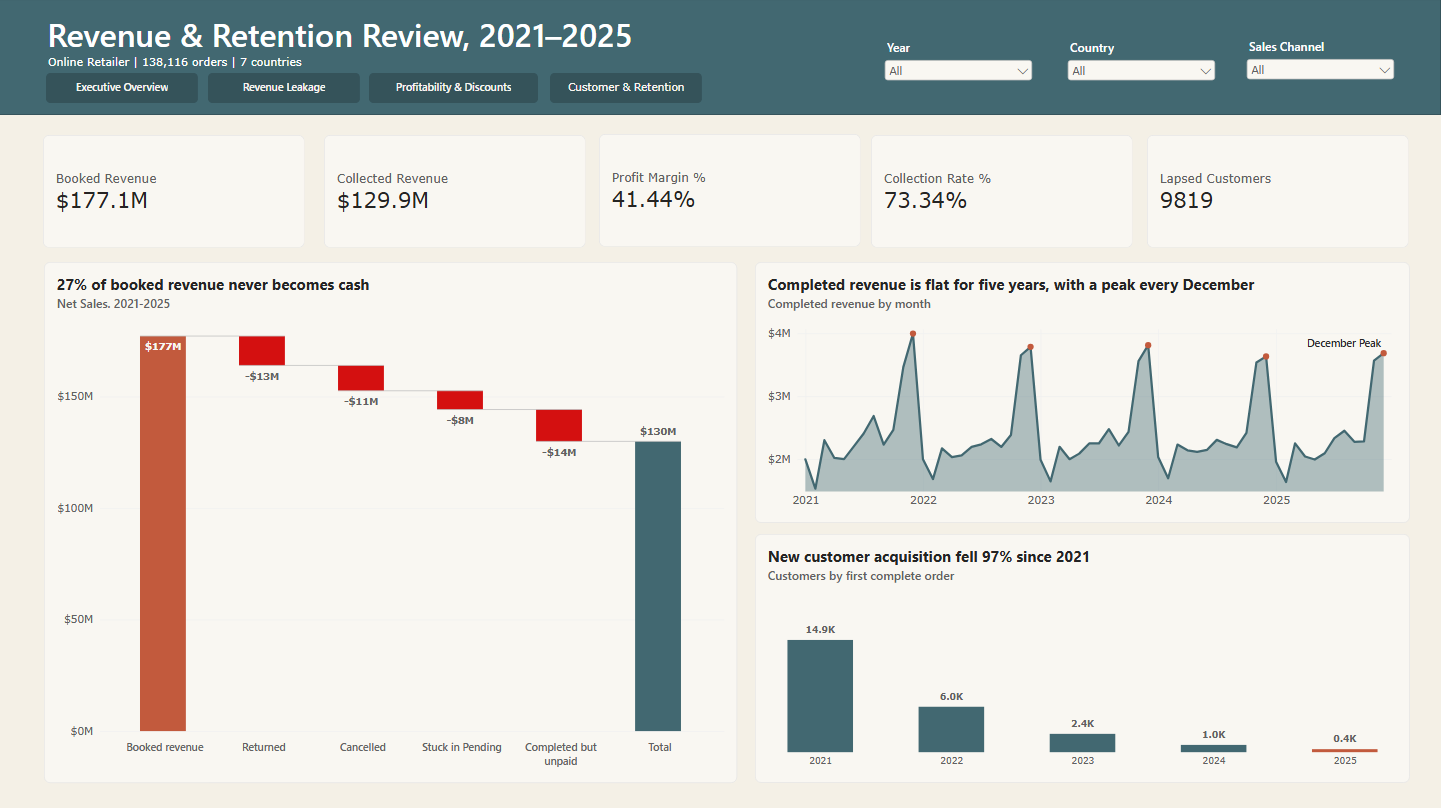

This screenshot's page, from the dashboard's own definition file:
{"tool":"powerbi","page":{"name":"Executive Overview","canvas":[1920,1080],"ordinal":0},"visuals":[{"type":"shape","box":[0,0,1920.6,156.9],"z":0},{"type":"textbox","box":[22.6,20,867.2,81.1],"z":1000},{"type":"slicer","fields":{"Values":["dim_date.Year"]},"box":[1175.8,55.9,206.2,61.2],"z":2000},{"type":"slicer","fields":{"Values":["dim_customers.customer_country"]},"box":[1419.2,55.9,206.2,61.2],"z":3000},{"type":"slicer","fields":{"Values":["fact_orders.sales_channel"]},"box":[1657.2,54.5,206.2,62.5],"z":4000},{"type":"cardVisual","fields":{"Data":["_Measures.Booked Revenue"]},"box":[61.2,183.5,348.5,150.3],"z":5000},{"type":"cardVisual","fields":{"Data":["_Measures.Collected Revenue"]},"box":[434.9,183.5,348.5,150.3],"z":6000},{"type":"cardVisual","fields":{"Data":["_Measures.Collection Rate %"]},"box":[1162.5,183.5,348.5,150.3],"z":7000},{"type":"cardVisual","fields":{"Data":["_Measures.Profit Margin %"]},"box":[800.7,182.2,348.5,150.3],"z":8000},{"type":"cardVisual","fields":{"Data":["_Measures.Lapsed Customers"]},"box":[1529.6,183.5,348.5,150.3],"z":9000},{"type":"waterfallChart","title":"27% of booked revenue never becomes cash","fields":{"Category":["revenue_waterfall.stage"],"Y":["Sum(revenue_waterfall.amount)"]},"box":[62.5,352.5,921.7,693],"z":10000},{"type":"stackedAreaChart","title":"Completed revenue is flat for five years, with a peak every December","fields":{"Category":["dim_date.Month Start.Variation.Date Hierarchy.Year","dim_date.Month Start.Variation.Date Hierarchy.Quarter","dim_date.Month Start.Variation.Date Hierarchy.Month","dim_date.Month Start.Variation.Date Hierarchy.Day"],"Y":["_Measures.Completed Revenue"]},"box":[1008.2,352.5,871.2,347.1],"z":11000},{"type":"columnChart","title":"New customer acquisition fell 97% since 2021","fields":{"Category":["dim_customers.first_order_year"],"Y":["_Measures.Customers"]},"box":[1008.2,714.2,871.2,331.2],"z":12000},{"type":"actionButton","title":"Executive Overview","box":[65.2,101.1,202.2,39.9],"z":13000},{"type":"actionButton","title":"Profitability & Discounts","box":[494.8,101.1,224.8,39.9],"z":14000},{"type":"actionButton","title":"Revenue Leakage","box":[280.6,101.1,202.2,39.9],"z":15000},{"type":"actionButton","title":"Customer & Retention","box":[735.5,101.1,202.2,39.9],"z":16000},{"type":"textbox","box":[1742.4,450.9,135.7,30.6],"z":16001}]}

Visuals, with their boxes in screenshot pixels (x1, y1, x2, y2), scaled from the page's 1920x1080 canvas onto the 1441x808 screenshot:
shape: 0:0:1440:117
textbox: 17:15:668:76
slicer - dim_date.Year: 882:42:1037:88
slicer - dim_customers.customer_country: 1065:42:1220:88
slicer - fact_orders.sales_channel: 1244:41:1399:88
cardVisual - _Measures.Booked Revenue: 46:137:307:250
cardVisual - _Measures.Collected Revenue: 326:137:588:250
cardVisual - _Measures.Collection Rate %: 872:137:1134:250
cardVisual - _Measures.Profit Margin %: 601:136:862:249
cardVisual - _Measures.Lapsed Customers: 1148:137:1410:250
"27% of booked revenue never becomes cash" waterfallChart: 47:264:739:782
"Completed revenue is flat for five years, with a peak every December" stackedAreaChart: 757:264:1411:523
"New customer acquisition fell 97% since 2021" columnChart: 757:534:1411:782
"Executive Overview" actionButton: 49:76:201:105
"Profitability & Discounts" actionButton: 371:76:540:105
"Revenue Leakage" actionButton: 211:76:362:105
"Customer & Retention" actionButton: 552:76:704:105
textbox: 1308:337:1410:360
